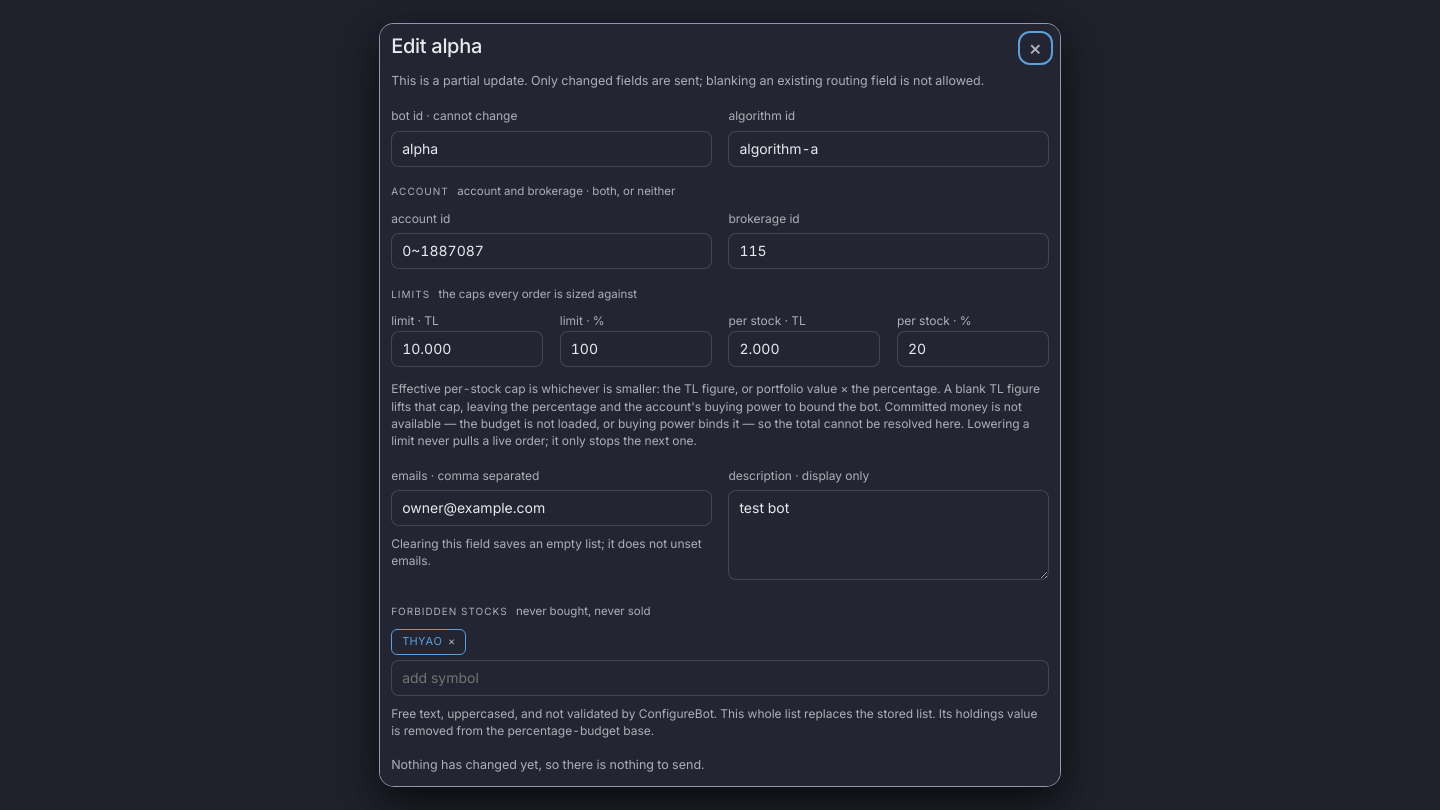
Test case: bot ConfigureBot dialogs › blocks a routing change when a queued basket appeared after the form opened
Type "account-2" into the field labelled "account id". click: (551, 251)
box: [391,233,712,269]
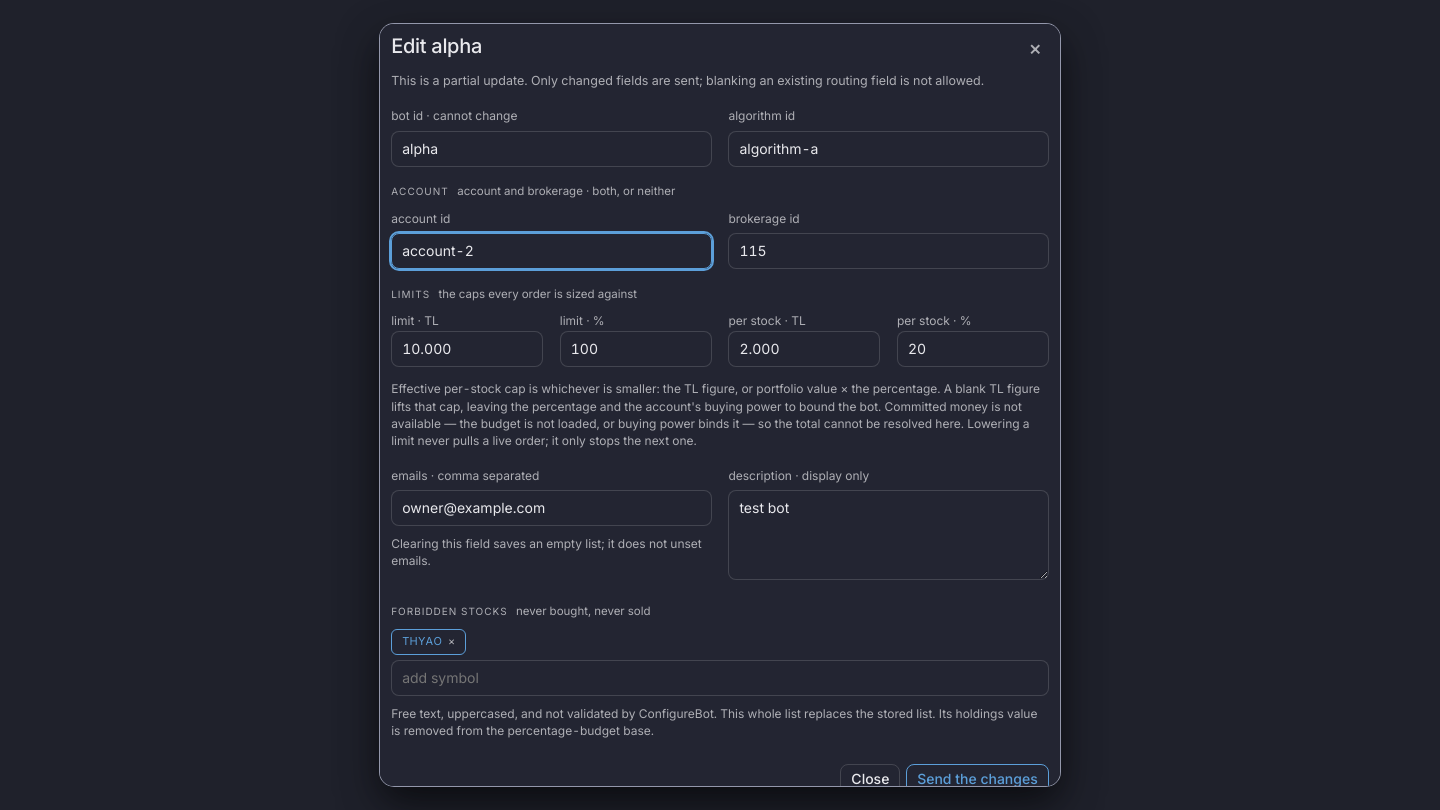
Type "broker-2" into the field labelled "brokerage id". click: (889, 251)
box: [728,233,1049,269]
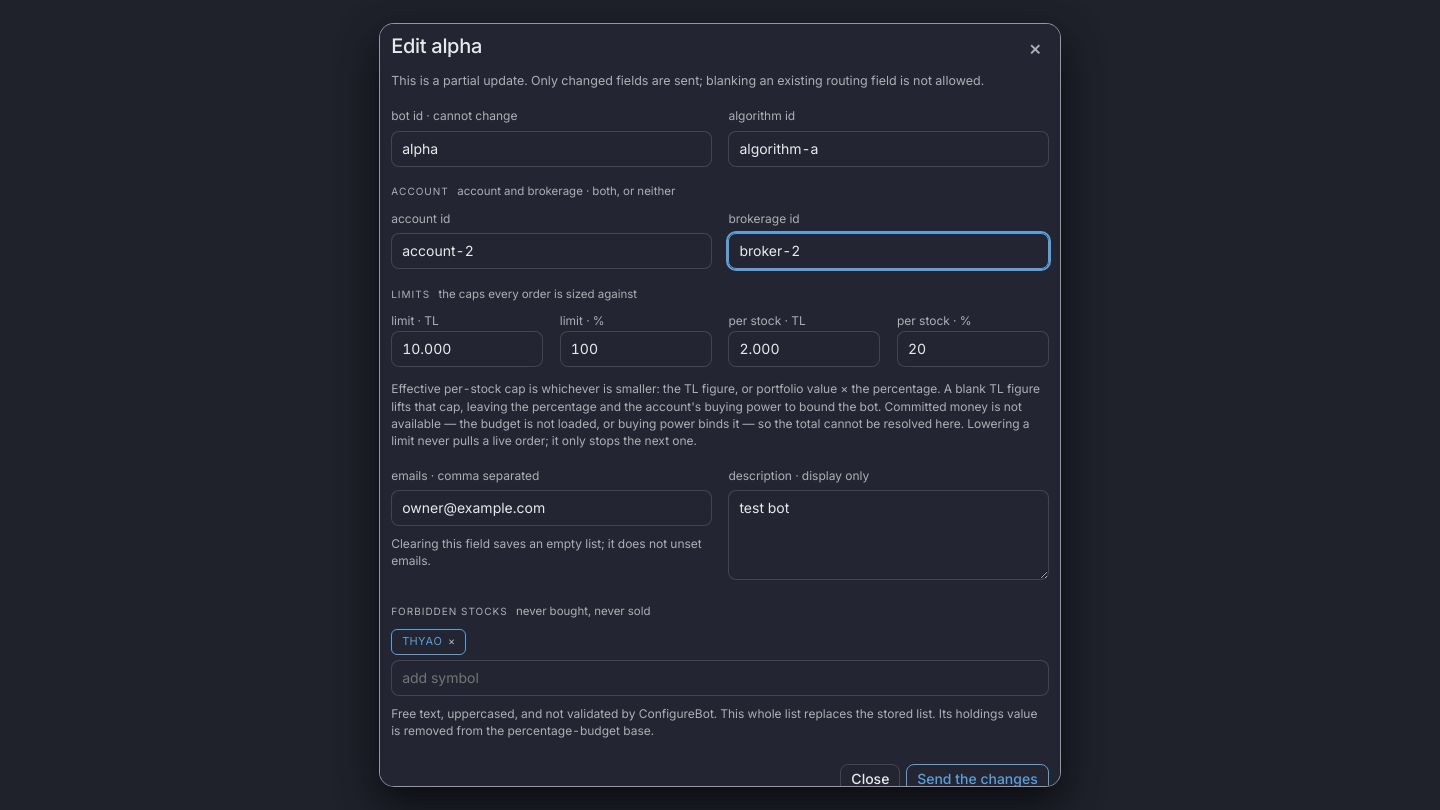
Click the button "Send the changes". click: (977, 780)
box: [906,764,1049,794]
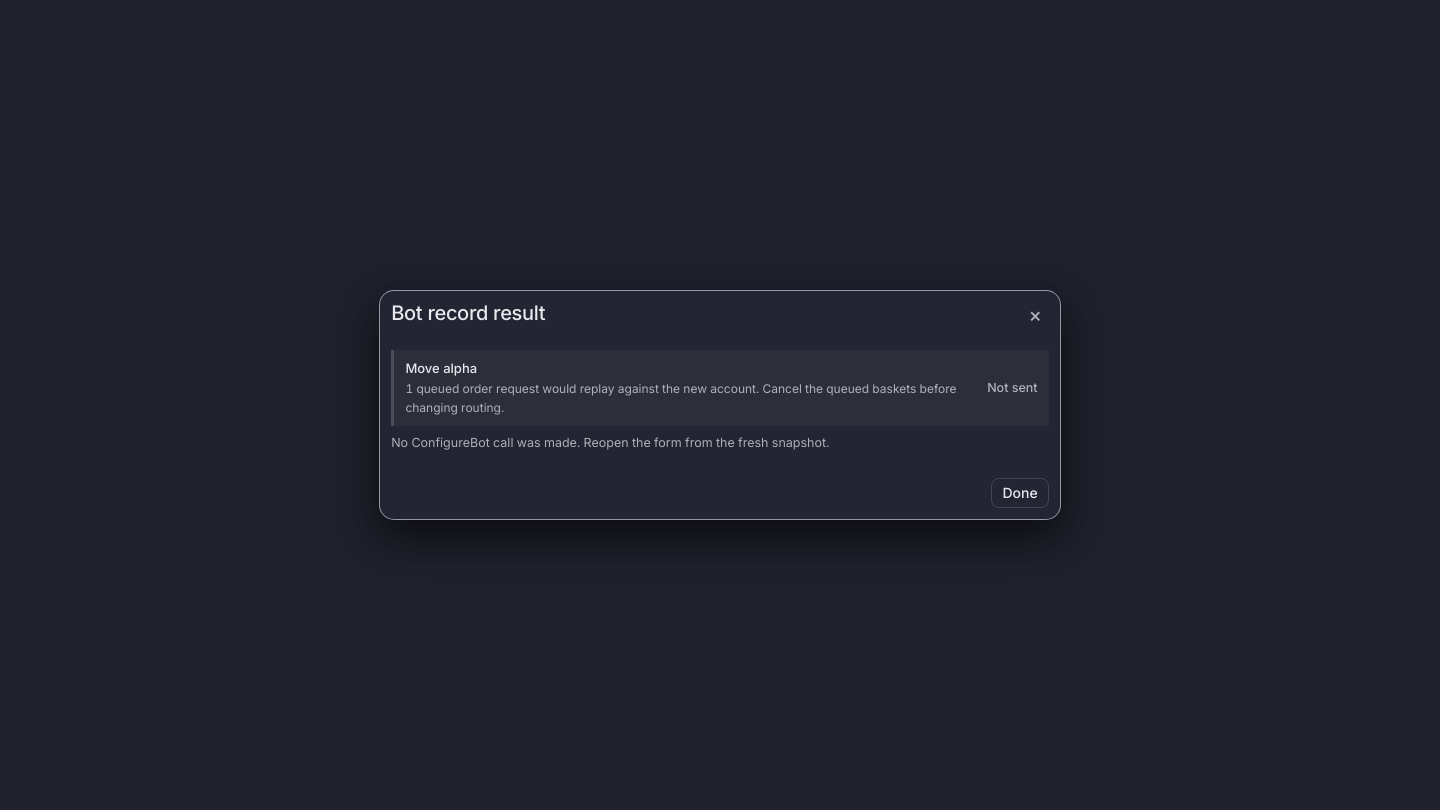
Result: the text "replay against the new account" is shown at [405,381,957,415]
